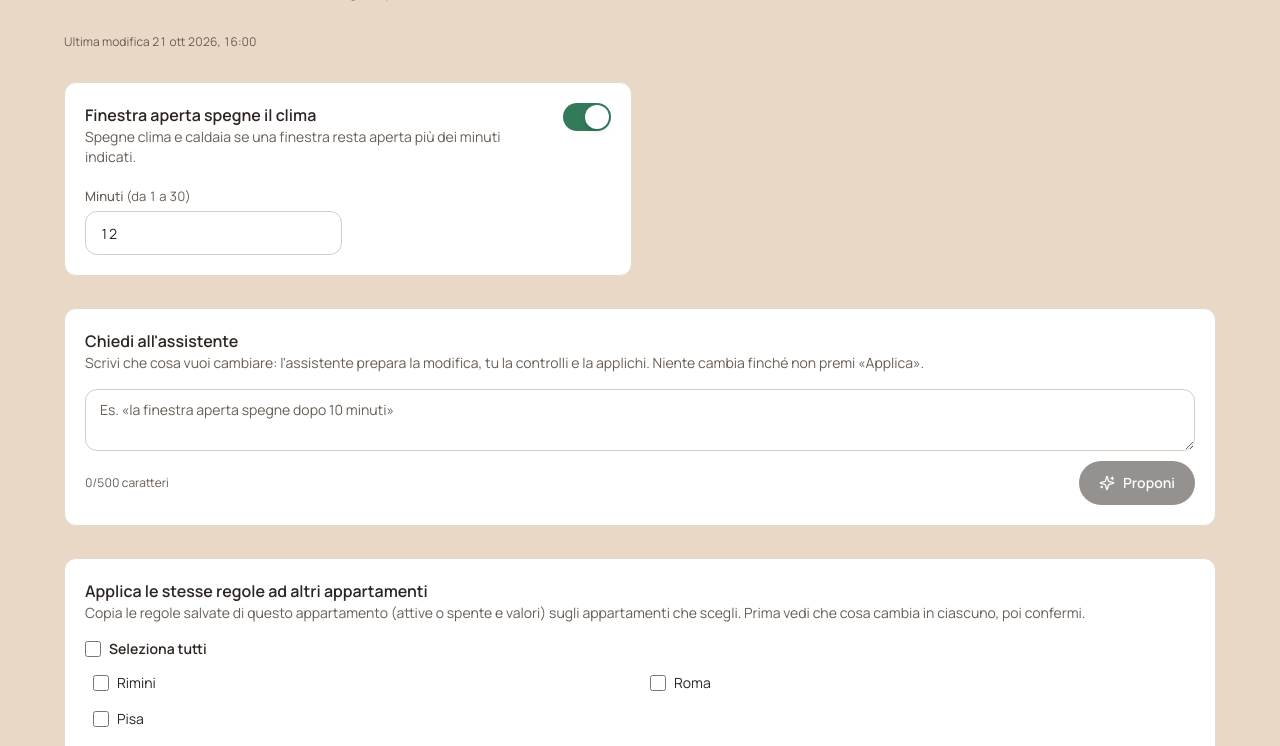
Test: Regole: copia su altri appartamenti (D-151) › conferma: manda quello che ha dato l'anteprima e mostra l'esito per appartamento
The width and height of the screenshot is (1280, 746).
Check: the element with test id "rule-card-window_open_off" is shown, box left=64, top=82, right=632, bottom=276
Click the checkbox with test id "rules-copy-target-apt-rimini-01". click: [101, 683]
box: left=93, top=675, right=109, bottom=691
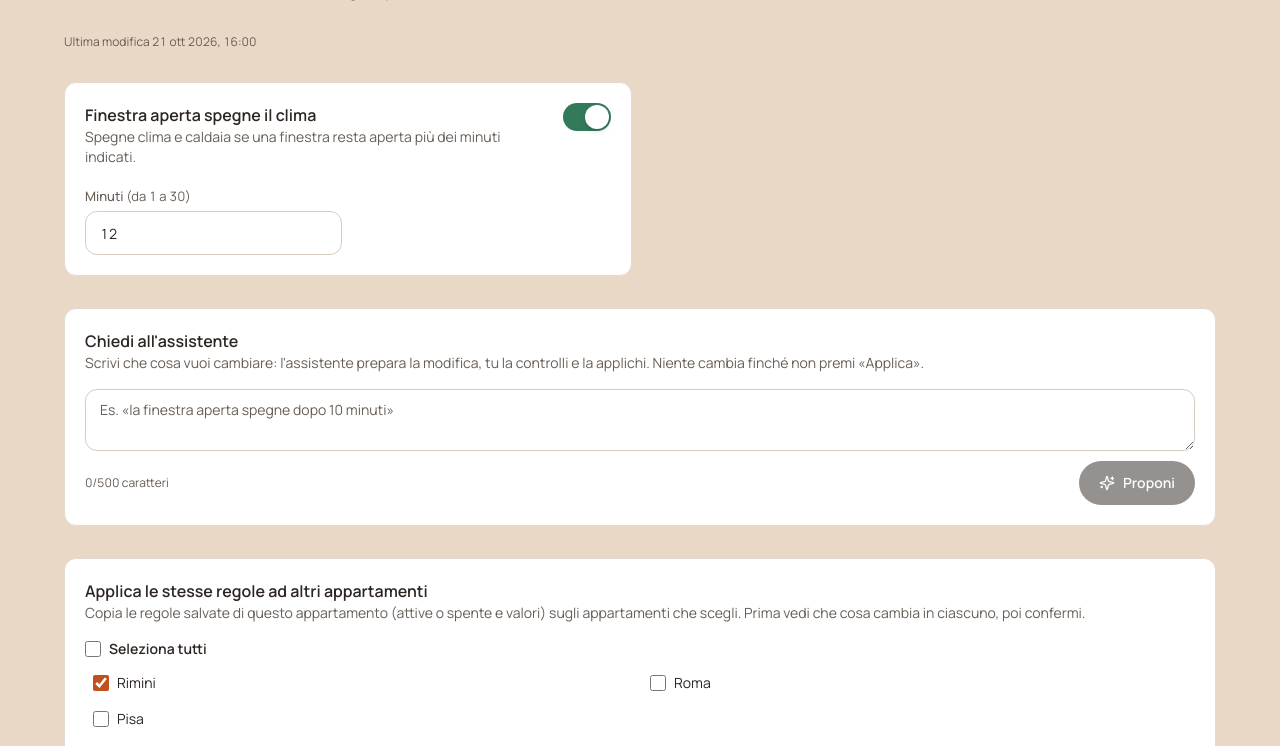
Click the checkbox labelled "Roma". click: [658, 683]
box: left=650, top=675, right=666, bottom=691
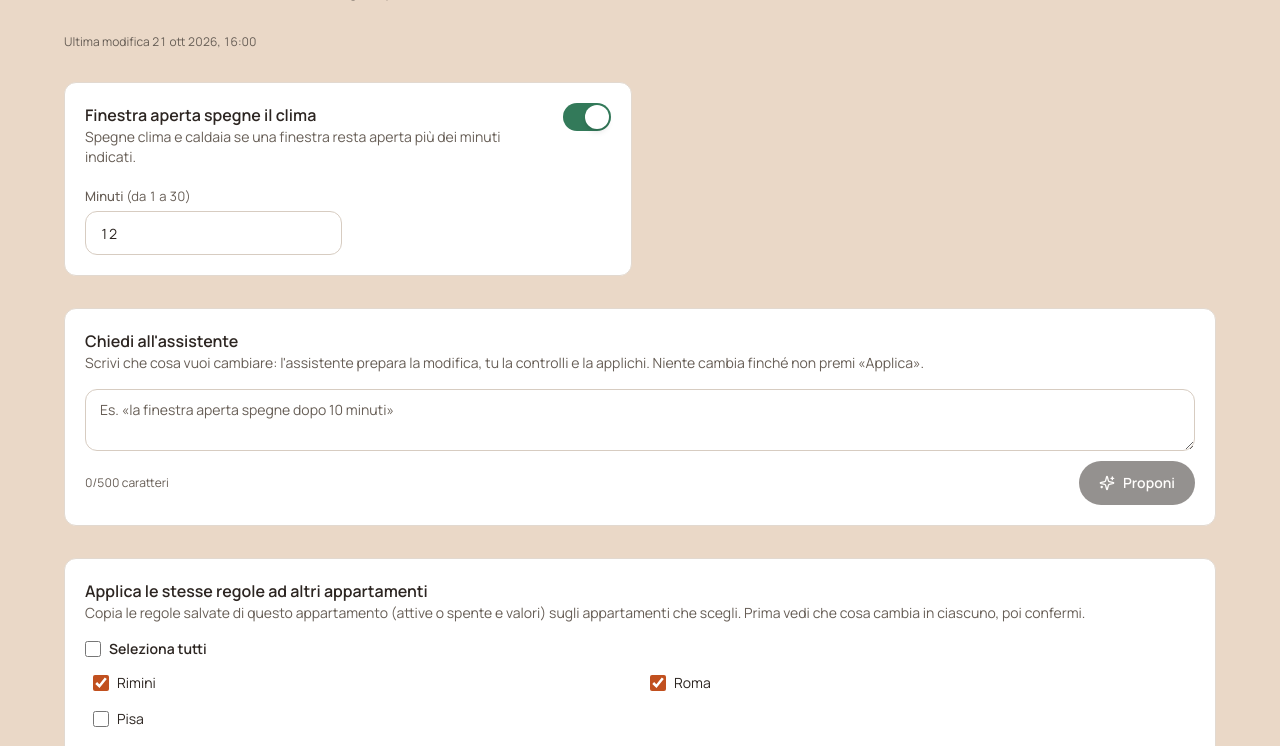
Click the checkbox labelled "Pisa". click: [101, 719]
box: left=93, top=711, right=109, bottom=727
(page scrolled)
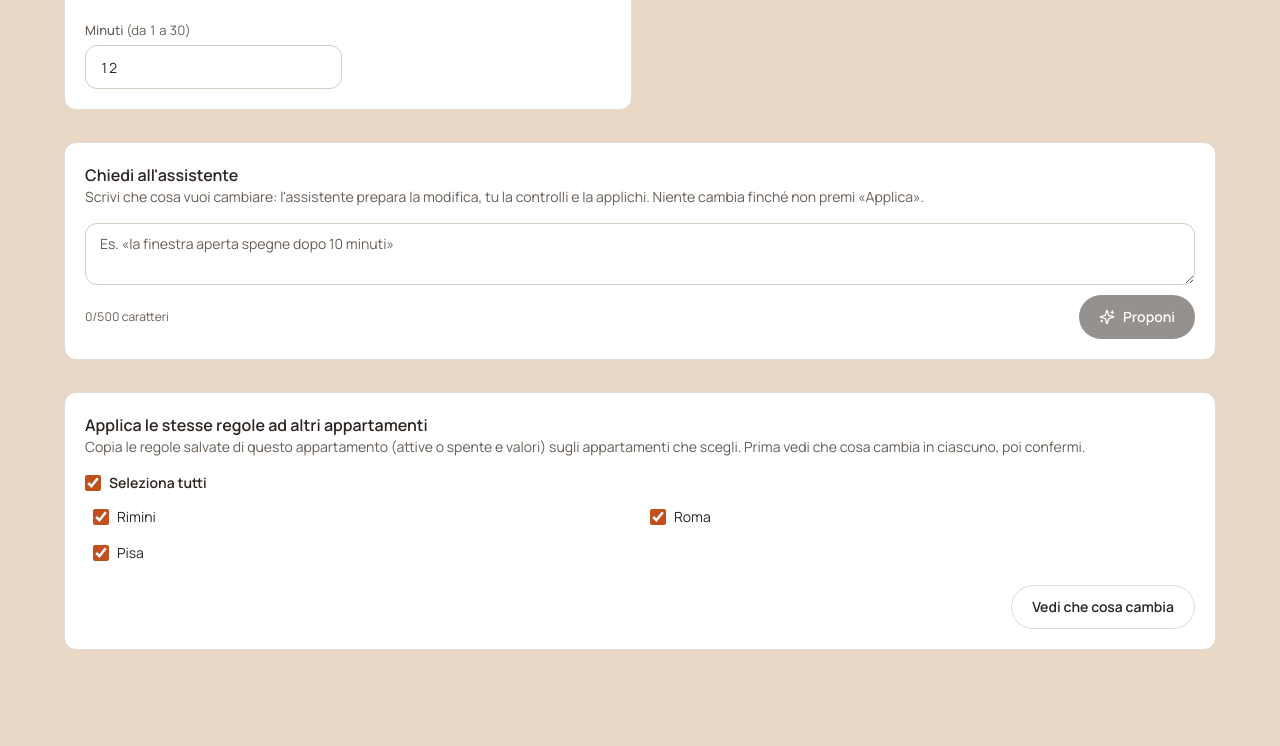
Click the button with test id "rules-copy-preview". click: [1103, 607]
box: left=1011, top=585, right=1195, bottom=629
(page scrolled)
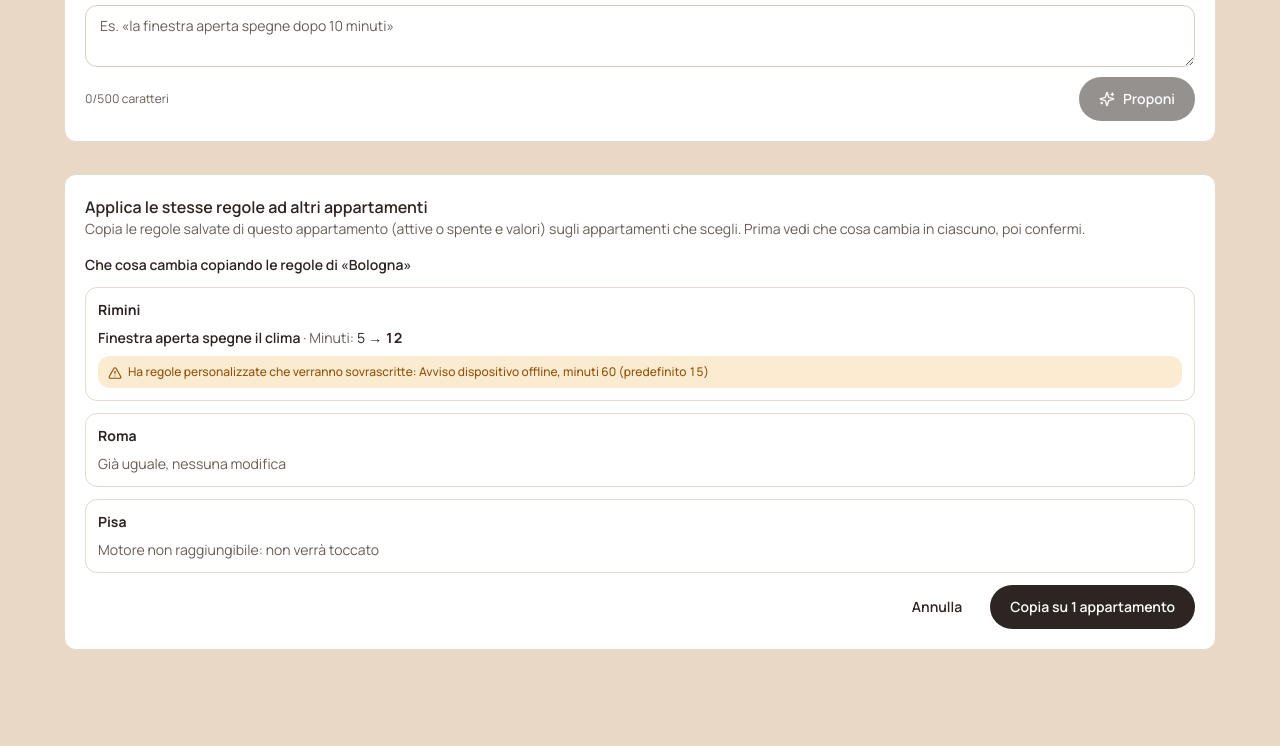
Click the button with test id "rules-copy-confirm". click: [1093, 607]
box: left=990, top=585, right=1195, bottom=629
(page scrolled)
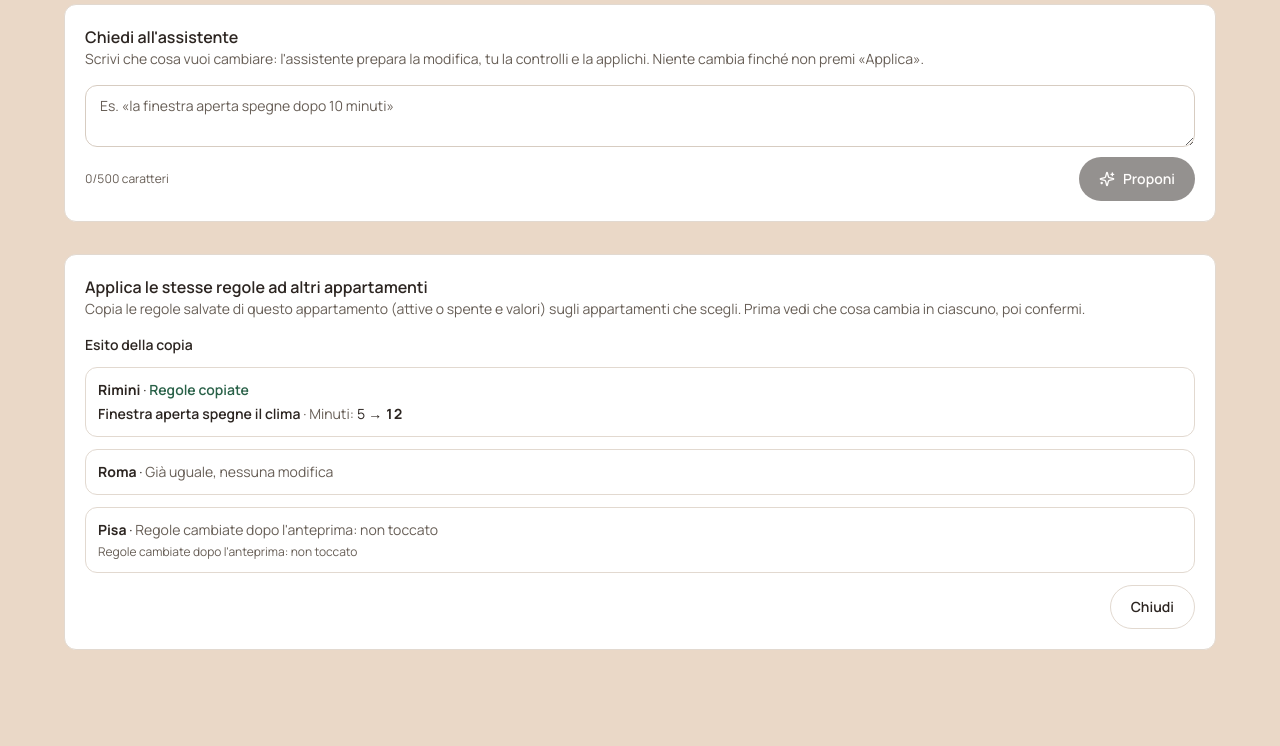
Check: the list with test id "rules-copy-result-changes-apt-rimini-01" shows "Minuti: 5 → 12", box left=98, top=404, right=402, bottom=423
Check: the element with test id "rules-copy-result-apt-rimini-01" shows "Rimini · Regole copiate", box left=85, top=367, right=1195, bottom=437
Check: the element with test id "rules-copy-result-apt-roma-01" shows "Già uguale, nessuna modifica", box left=145, top=462, right=333, bottom=481
Click the button with test id "rules-copy-close". click: [1152, 607]
box: left=1110, top=585, right=1195, bottom=629
(page scrolled)
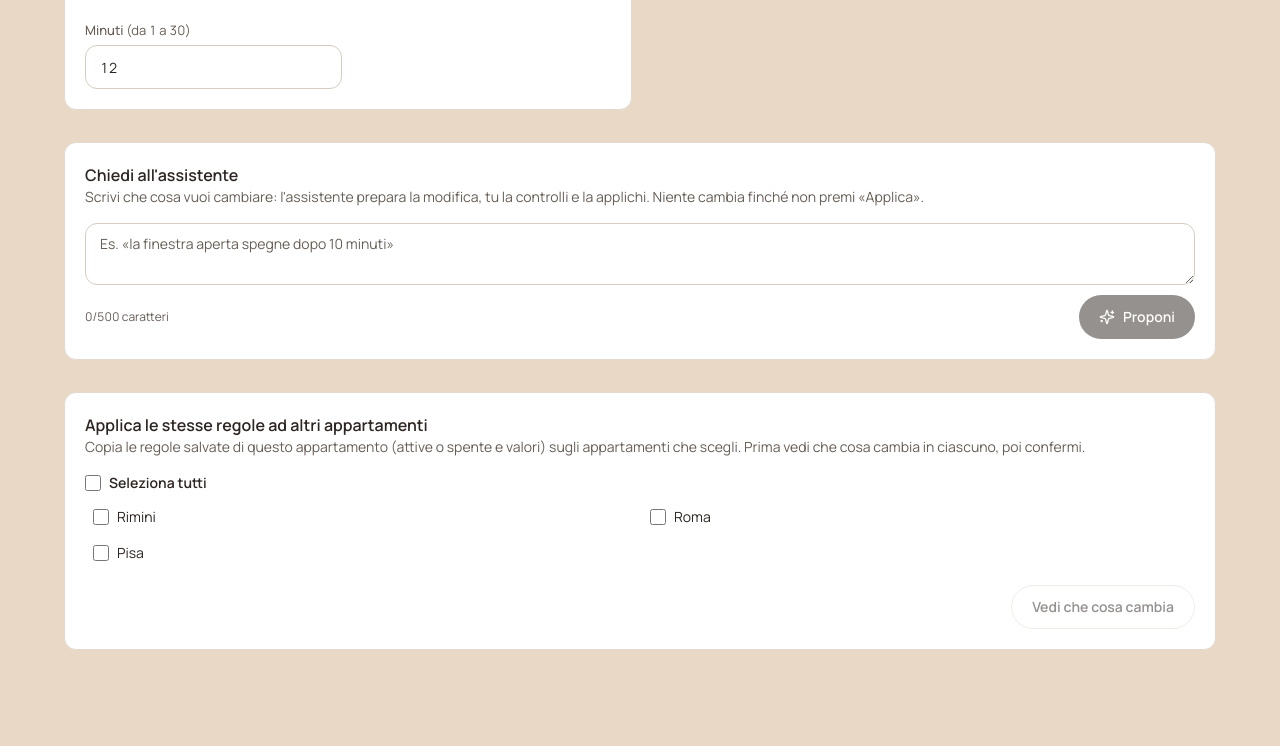
Check: the element with test id "rules-copy-results" is gone
